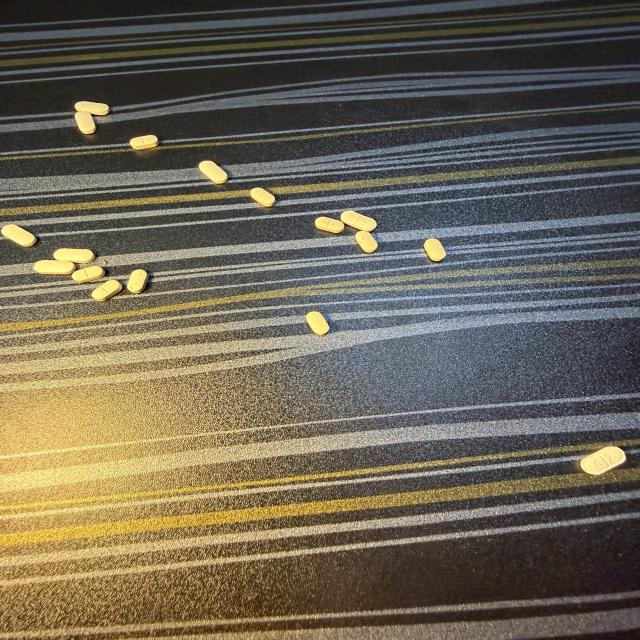pill: (581, 447, 625, 475), (0, 225, 37, 246), (341, 211, 376, 232), (199, 161, 227, 184), (92, 280, 122, 301), (34, 260, 75, 274), (54, 249, 95, 263), (72, 266, 104, 283), (306, 312, 329, 335), (424, 239, 446, 261), (127, 270, 148, 293), (75, 101, 109, 115), (315, 217, 344, 233), (75, 112, 96, 134), (355, 231, 377, 252), (250, 188, 275, 206), (130, 135, 158, 149), (101, 258, 107, 266)
